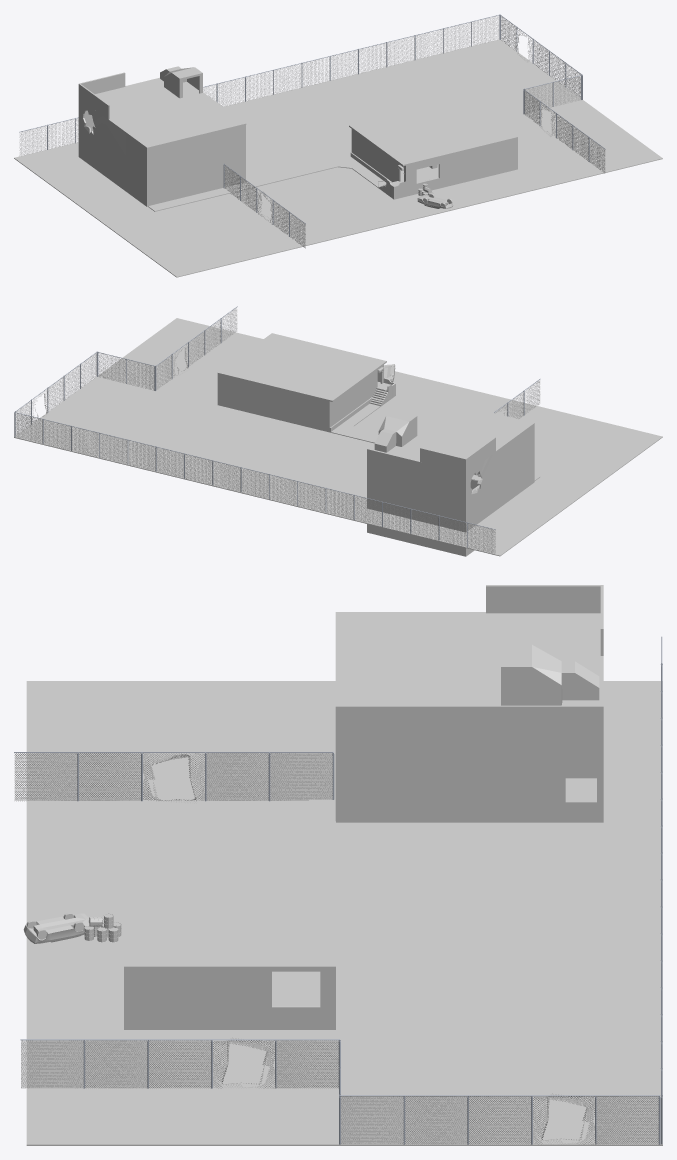
The model's file is Layout.fbx.
3 views of the same model, one above another, from view 1: azimuth 30°, elevation 25°; view 2: azimuth 150°, elevation 25°; view 3: azimuth 270°, elevation 25° (orthographic). The views are drawn at different scales.
Visible parts, largest first — view 1: SueloParking, Bloque, Cube.005, Fence.007, Arch_2, Fence.002, Fence.001, Fence.003, Fence.004, Cube.013, Cube.022; view 2: SueloParking, Bloque, Cube.005, Fence.007, Fence.001, Fence.003, Cube.022, Fence.004, Cube.013, Arch_2, Fence.002; view 3: SueloParking, Bloque, Cube.005, Fence.003, Fence.001, Fence.002, Cube.022, Cube.013, Arch_2, pPlane1.003, FenceBroken, Suelo_Recepcion.003 (+3 smaller).
Boxes of the visible parts, box(x1,y1,x2,y2) form: SueloParking: box(14, 39, 662, 277); Bloque: box(78, 77, 246, 206); Cube.005: box(349, 97, 517, 196); Fence.007: box(19, 14, 500, 155); Arch_2: box(148, 156, 386, 211); Fence.002: box(223, 163, 305, 248); Fence.001: box(523, 89, 605, 173); Fence.003: box(500, 14, 581, 97); Fence.004: box(525, 75, 581, 112); Cube.013: box(78, 72, 125, 119); Cube.022: box(160, 66, 202, 98); SueloParking: box(14, 318, 662, 556); Bloque: box(367, 399, 534, 556); Cube.005: box(217, 333, 386, 432); Fence.007: box(14, 412, 495, 553); Fence.001: box(155, 306, 237, 390); Fence.003: box(15, 352, 96, 435); Cube.022: box(374, 410, 417, 452); Fence.004: box(97, 352, 154, 390); Cube.013: box(420, 437, 495, 473); Arch_2: box(329, 401, 540, 480); Fence.002: box(494, 378, 540, 418); SueloParking: box(26, 681, 662, 1145); Bloque: box(335, 612, 603, 822); Cube.005: box(124, 857, 335, 1029); Fence.003: box(340, 1095, 660, 1144); Fence.001: box(20, 1039, 339, 1088); Fence.002: box(14, 751, 334, 801); Cube.022: box(501, 644, 599, 705); Cube.013: box(486, 585, 603, 655); Arch_2: box(309, 727, 335, 857); pPlane1.003: box(23, 913, 88, 943); FenceBroken: box(533, 1093, 596, 1145); Suelo_Recepcion.003: box(272, 971, 320, 997).
Bounding box in the file's own units: 12897 × 2618 × 7624.
